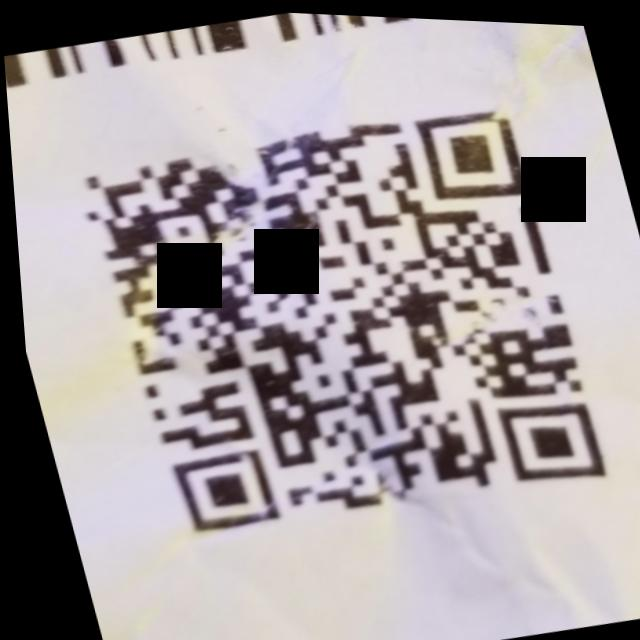QR_CODE: (39, 67, 640, 600)
